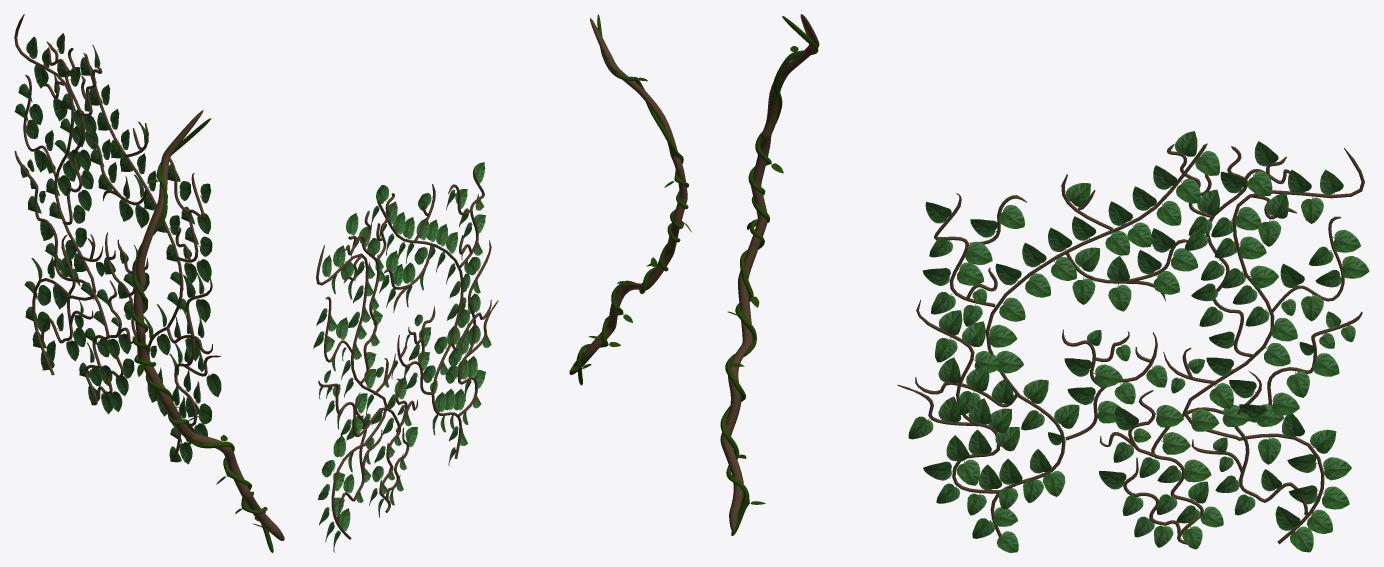
File: vines.fbx
3 renders of one model, left to right at view 1: azimuth 30°, elevation 25°; view 2: azimuth 150°, elevation 25°; view 3: azimuth 270°, elevation 25°, orthographic. The views are drawn at different scales.
Parts seen in each view (by area): view 1: Plane132, Line004, Vine_1, Vine_2; view 2: Plane132, Line004, Vine_1, Vine_2; view 3: Plane132, Line004, Vine_1, Vine_2.
Part boxes in pixels (left/top/right/bottom): Plane132: left=14, top=33, right=221, bottom=464; Line004: left=14, top=14, right=220, bottom=461; Vine_1: left=133, top=110, right=284, bottom=540; Vine_2: left=131, top=118, right=273, bottom=552; Plane132: left=313, top=162, right=491, bottom=552; Line004: left=316, top=166, right=498, bottom=539; Vine_1: left=569, top=18, right=687, bottom=374; Vine_2: left=570, top=14, right=691, bottom=385; Plane132: left=908, top=131, right=1369, bottom=552; Line004: left=897, top=143, right=1364, bottom=544; Vine_1: left=720, top=14, right=819, bottom=531; Vine_2: left=720, top=16, right=818, bottom=535.
Size of the model in its own units: 4.37 by 11.59 by 13.49.
3 materials, 1 textured.
